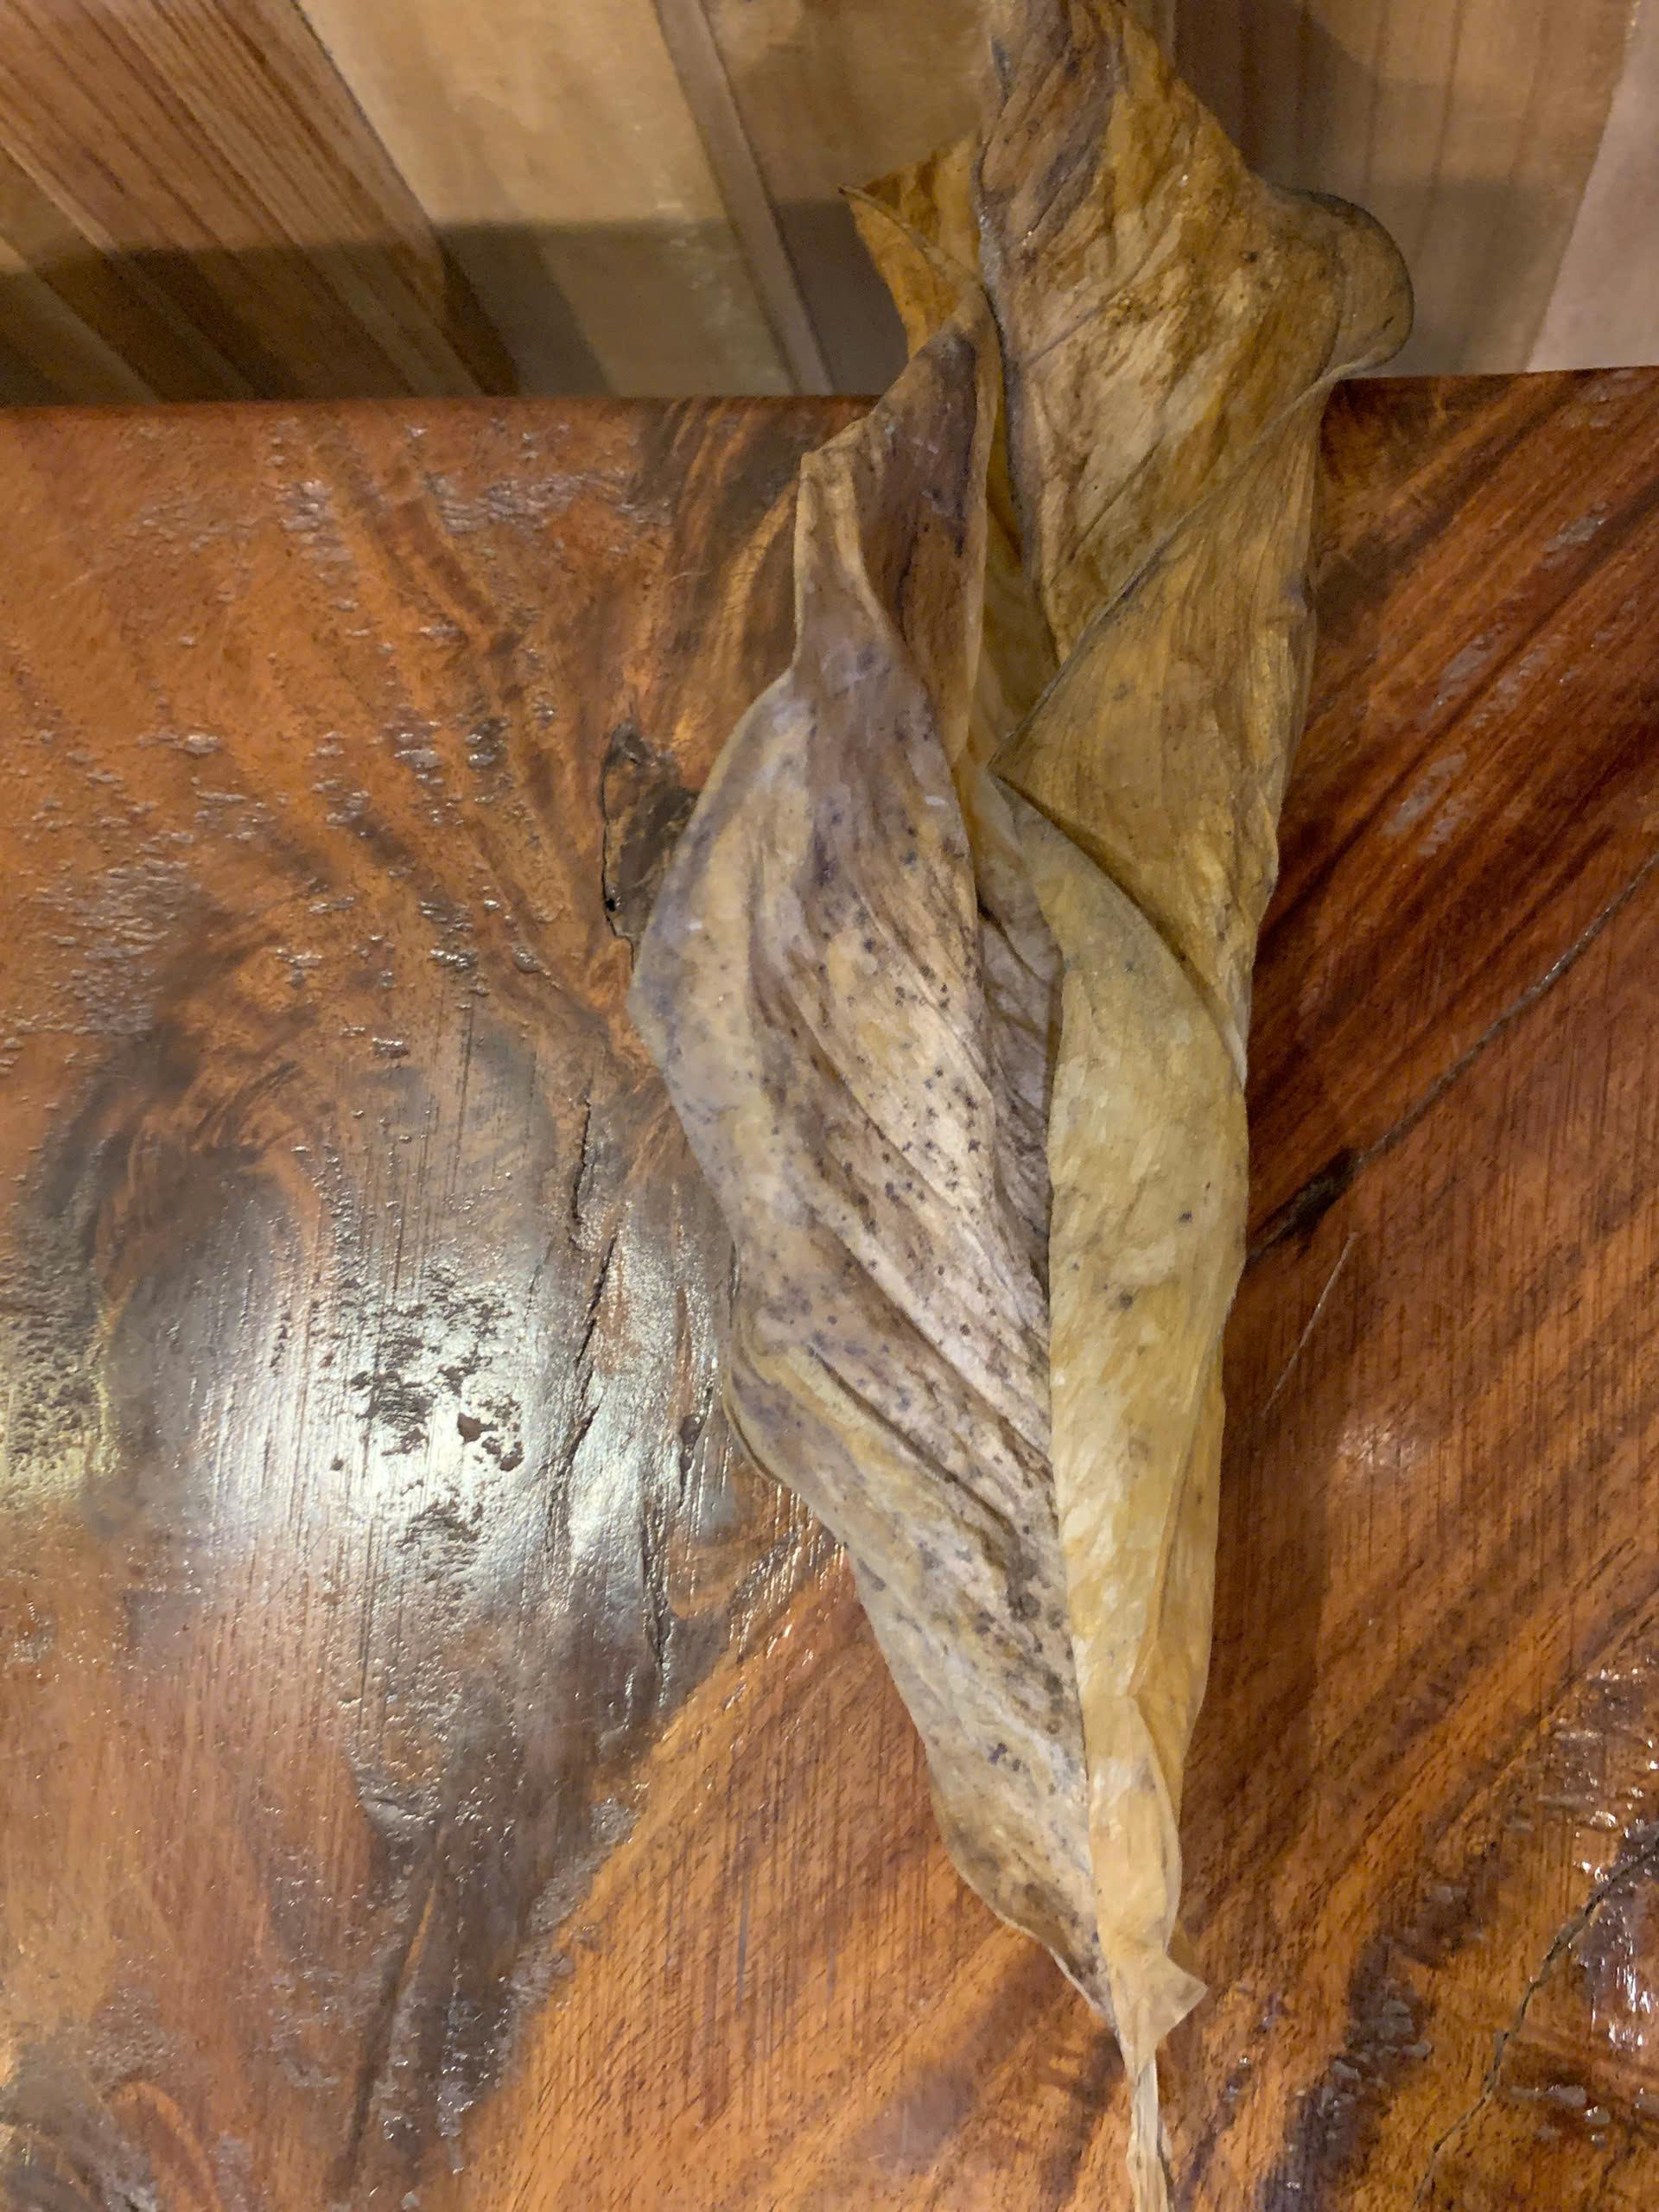Huu co: (669, 9, 1420, 2085)
